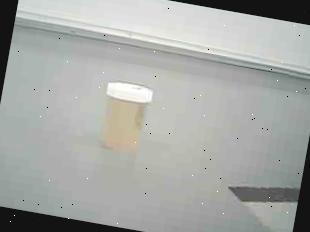Bottle B: (83, 69, 166, 164)
